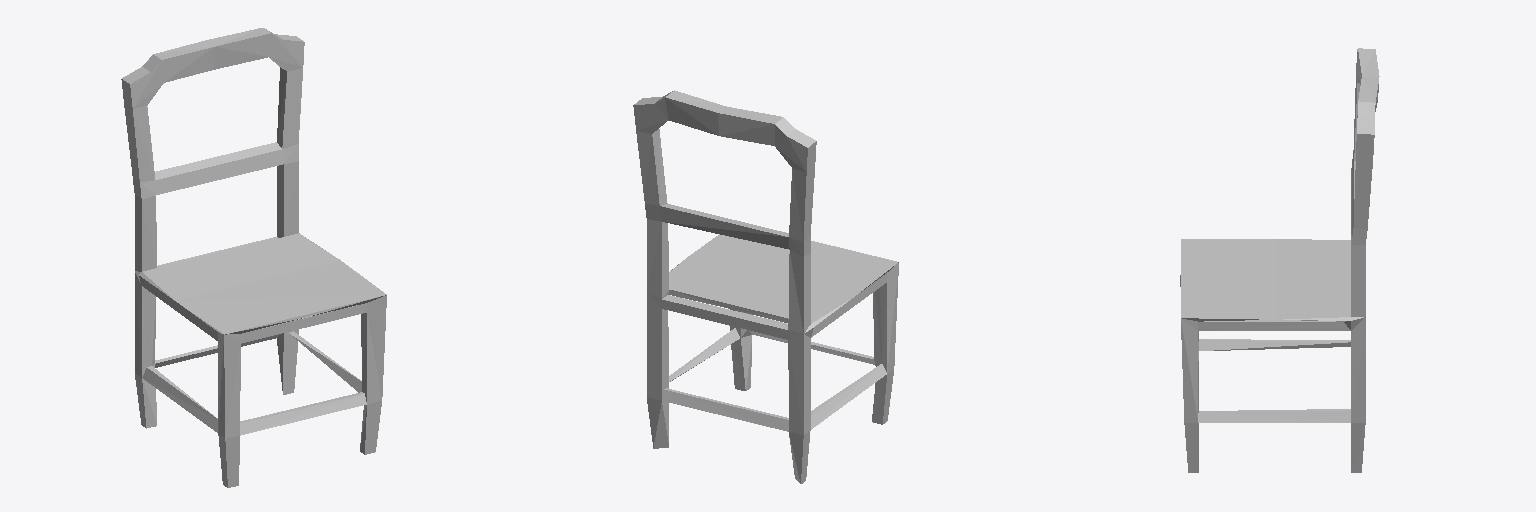
File: Chair_LOD1.obj
3 views of the same model, side by side, from view 1: azimuth 30°, elevation 25°; view 2: azimuth 150°, elevation 25°; view 3: azimuth 270°, elevation 25° (orthographic).
Parts seen in each view (by area): view 1: Chair; view 2: Chair; view 3: Chair.
Part boxes in pixels (x1,y1,x2,y2): Chair: (121, 28, 386, 487); Chair: (633, 90, 898, 483); Chair: (1180, 48, 1379, 472).
Bounding box in the file's own units: 0.5556 × 1.1 × 0.5486.